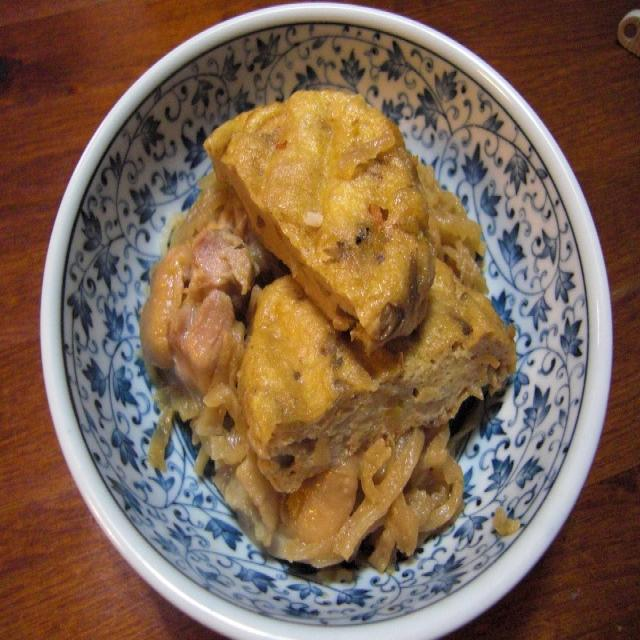熟制海鲜: (120, 56, 549, 573)
